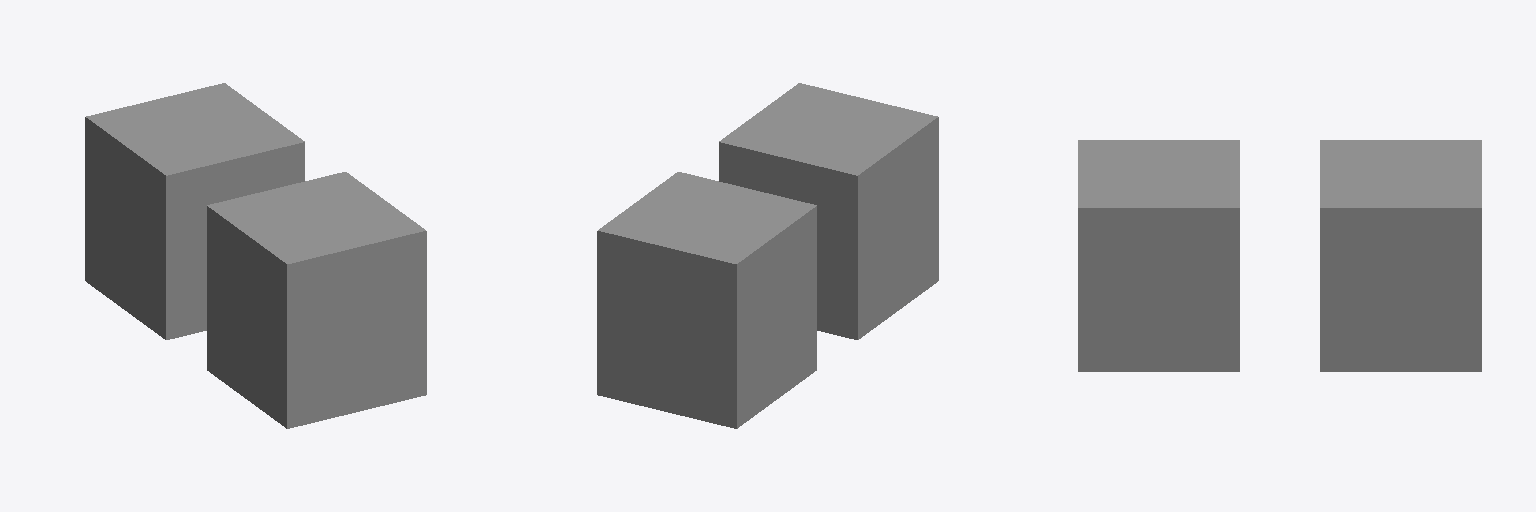
File: Double_Dot.obj
3 renders of one model, left to right at view 1: azimuth 30°, elevation 25°; view 2: azimuth 150°, elevation 25°; view 3: azimuth 270°, elevation 25°, orthographic.
Visible parts, largest first — view 1: Double_Dot_CUABC.044; view 2: Double_Dot_CUABC.044; view 3: Double_Dot_CUABC.044.
Boxes of the visible parts, box(x1,y1,x2,y2) form: Double_Dot_CUABC.044: box(85, 83, 426, 428); Double_Dot_CUABC.044: box(597, 83, 938, 428); Double_Dot_CUABC.044: box(1078, 140, 1481, 371).
Size of the model in its own units: 0.2211 by 0.25 by 0.5556.